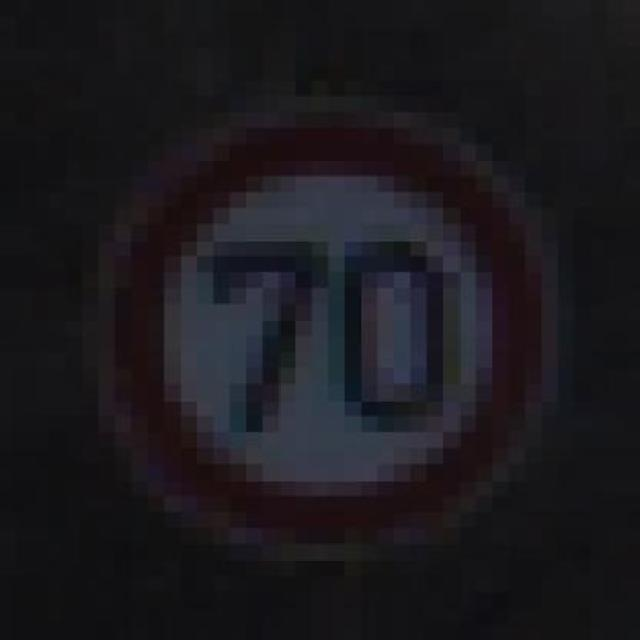forb_speed_over_70: (107, 106, 539, 545)
